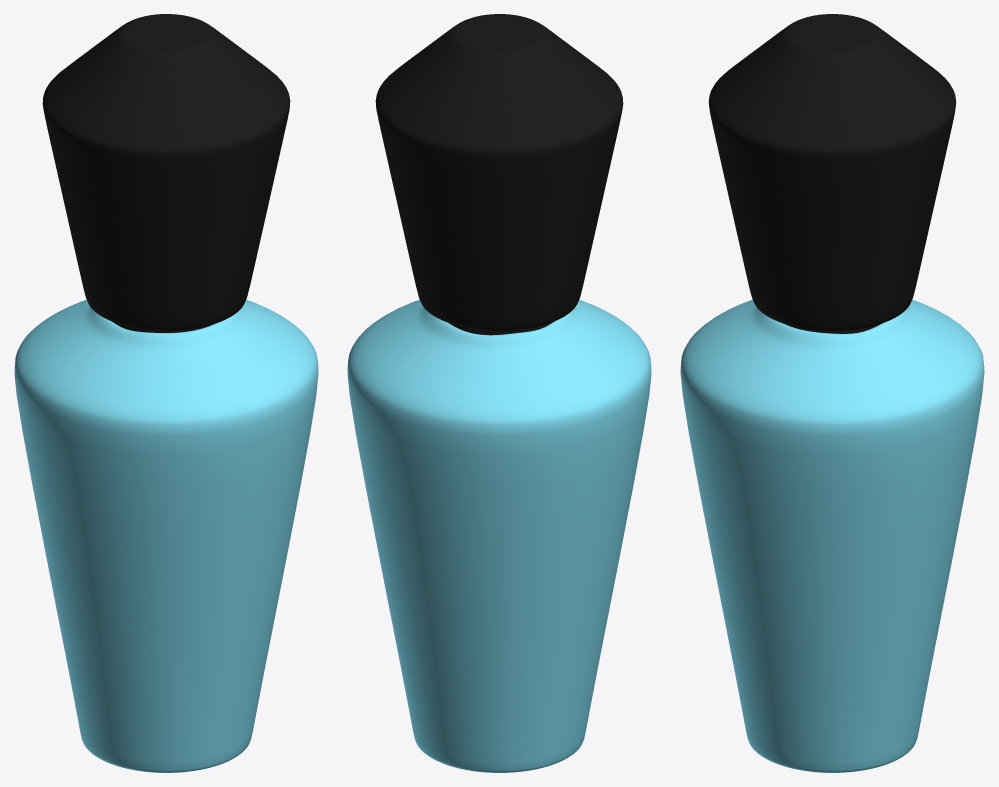
The model's file is lipStick.fbx.
The picture shows the model from 3 angles, left to right: view 1: azimuth 30°, elevation 25°; view 2: azimuth 150°, elevation 25°; view 3: azimuth 270°, elevation 25°; orthographic projection.
Parts seen in each view (by area): view 1: Bottle4, Bottle4_Cap.001; view 2: Bottle4, Bottle4_Cap.001; view 3: Bottle4, Bottle4_Cap.001.
Part boxes in pixels (left/top/right/bottom): Bottle4: left=14, top=299, right=318, bottom=772; Bottle4_Cap.001: left=42, top=14, right=290, bottom=332; Bottle4: left=347, top=299, right=651, bottom=772; Bottle4_Cap.001: left=375, top=14, right=623, bottom=335; Bottle4: left=680, top=299, right=984, bottom=772; Bottle4_Cap.001: left=708, top=14, right=956, bottom=333.
Size of the model in its own units: 3.69 by 9.43 by 3.69.
